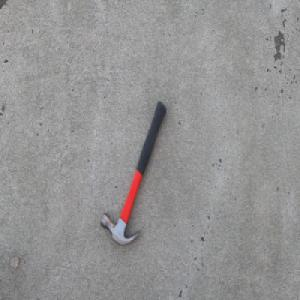Hammer: (99, 99, 167, 247)
